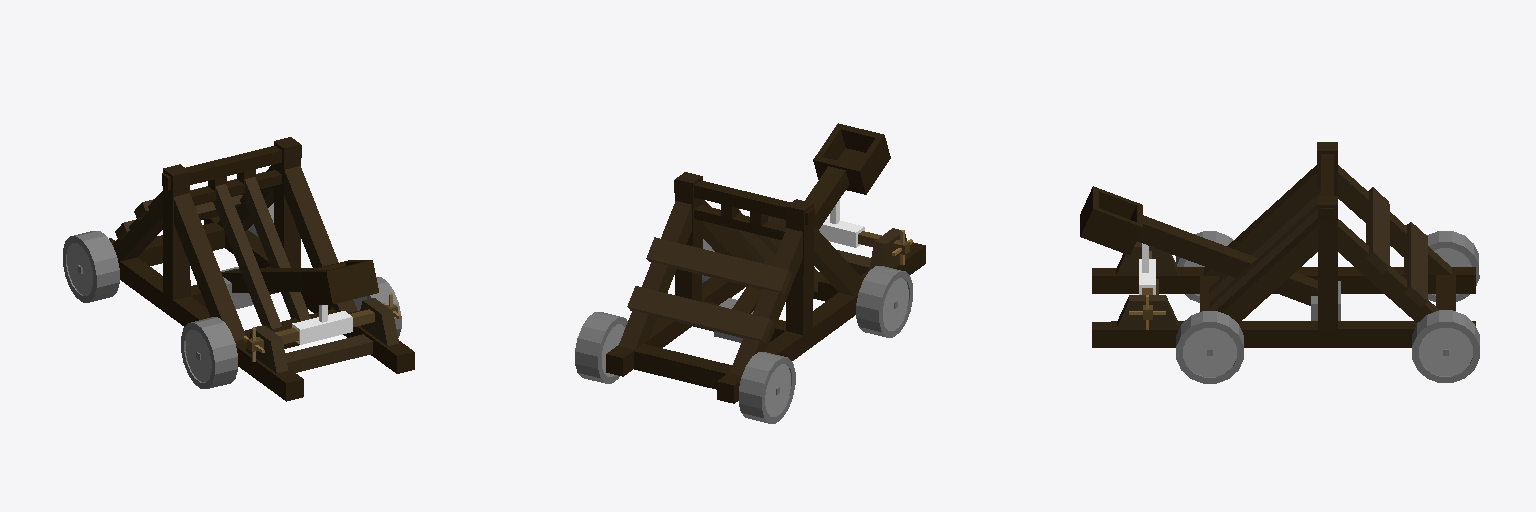
3 renders of one model, left to right at view 1: azimuth 30°, elevation 25°; view 2: azimuth 150°, elevation 25°; view 3: azimuth 270°, elevation 25°, orthographic.
Parts seen in each view (by area): view 1: cube; view 2: cube; view 3: cube.
Boxes of the visible parts, <box> form: cube: <box>63,137,414,401</box>; cube: <box>575,123,925,423</box>; cube: <box>1080,142,1479,383</box>.
Bounding box in the file's own units: 16.04 × 13.49 × 29.65.
Materials: 1 (1 with a texture image).